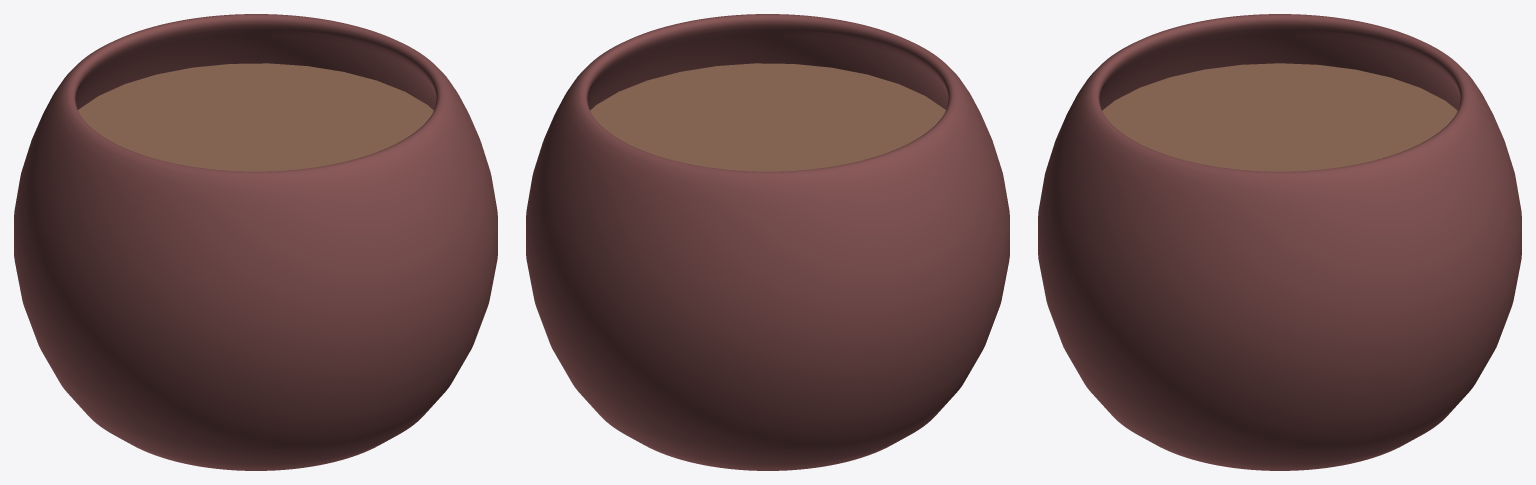
Rendered from round_red.glb.
3 views of the same model, side by side, from view 1: azimuth 30°, elevation 25°; view 2: azimuth 150°, elevation 25°; view 3: azimuth 270°, elevation 25° (orthographic).
Visible parts, largest first — view 1: Circle.004, Circle.005; view 2: Circle.004, Circle.005; view 3: Circle.004, Circle.005.
Boxes of the visible parts, x1,y1,x2,y2 form: Circle.004: (14,14,497,470); Circle.005: (78,63,433,171); Circle.004: (526,14,1009,470); Circle.005: (590,63,945,171); Circle.004: (1038,14,1521,470); Circle.005: (1102,63,1457,171).
Size of the model in its own units: 13.78 by 10.23 by 13.78.
